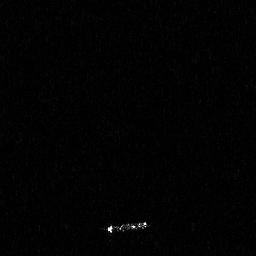ship: (101, 217, 154, 237)
